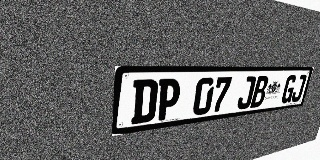0: (192, 77, 216, 116)
7: (210, 77, 232, 113)
B: (250, 76, 270, 108)
D: (131, 79, 159, 124)
G: (280, 75, 298, 104)
J: (236, 76, 257, 110), (290, 75, 307, 102)
P: (155, 78, 182, 121)
